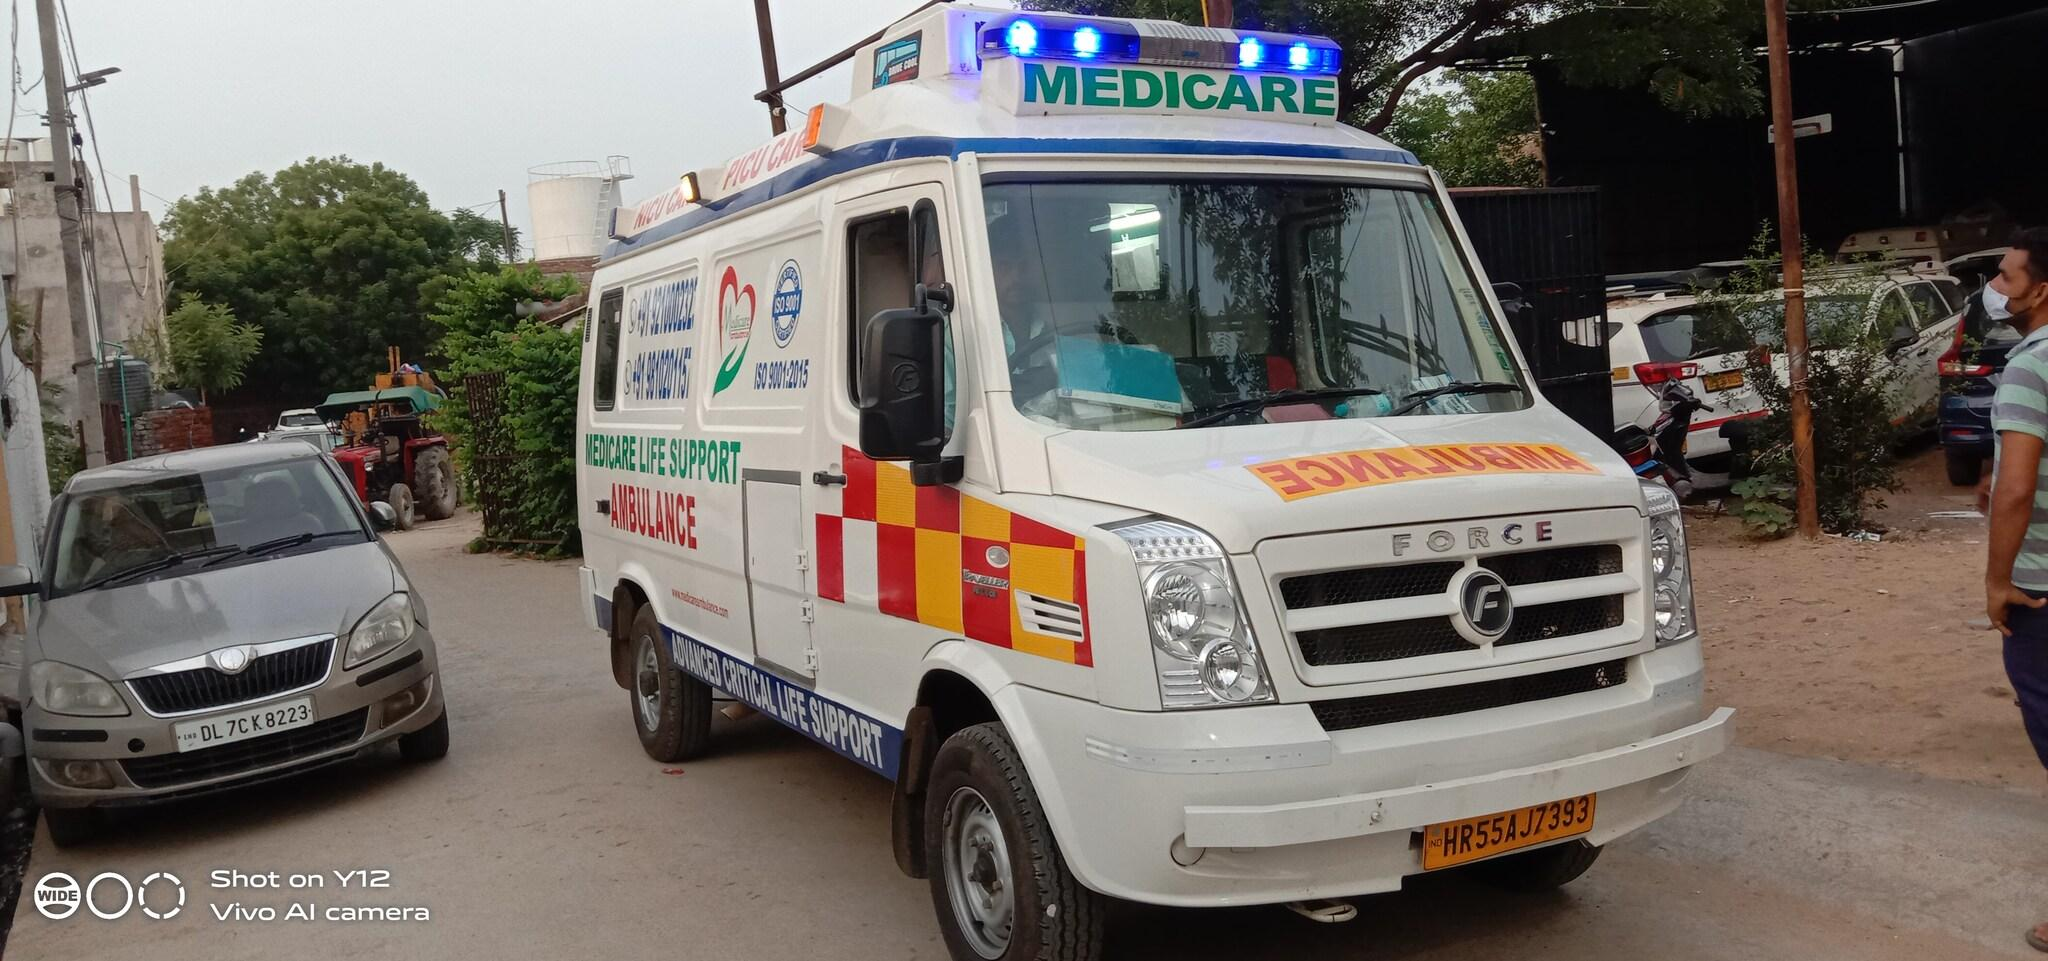ER: (575, 3, 1740, 961)
